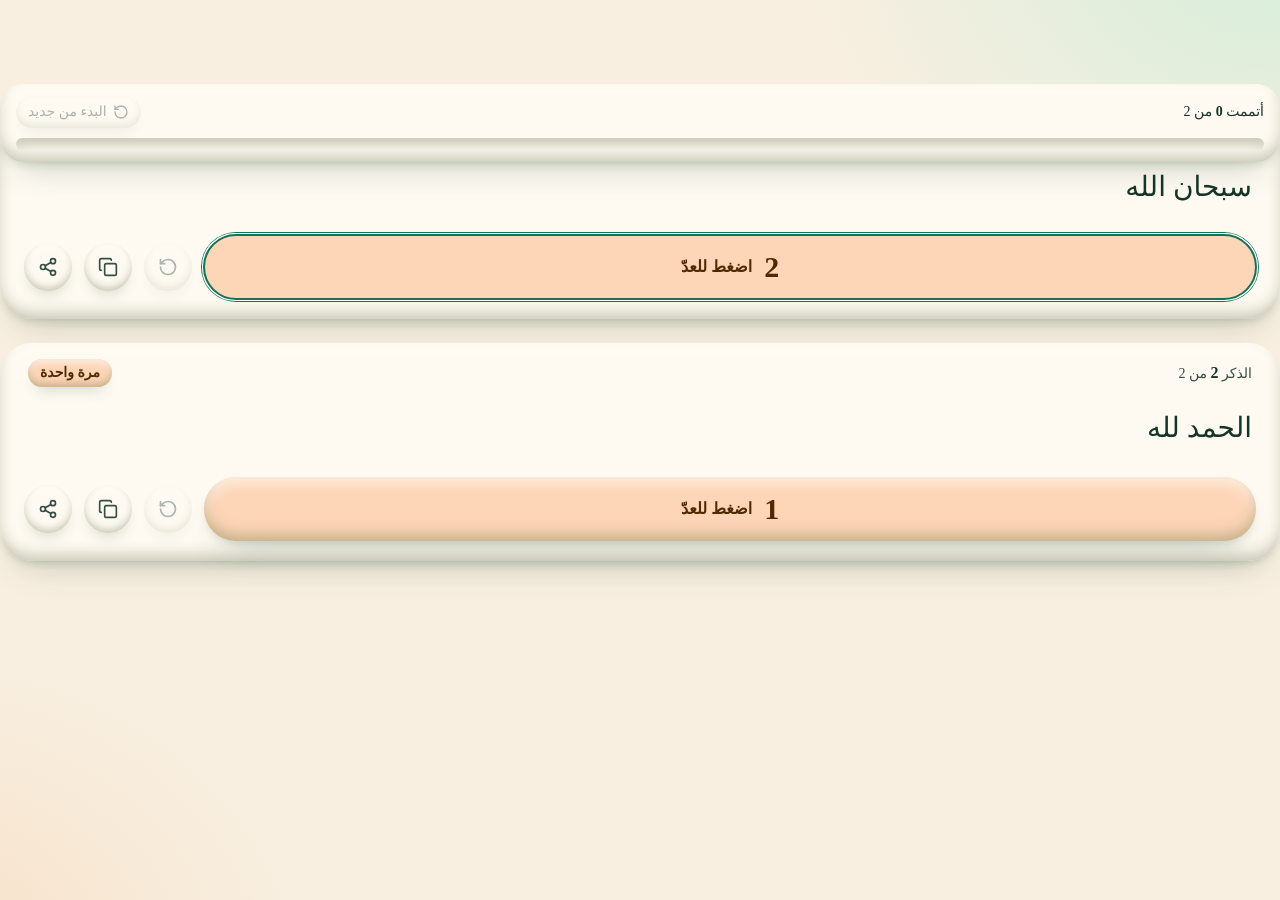
Test: ZekrList reading progress › enables reset-all only after a zekr is completed and leaves the announcement as it was
Click the button "2 اضغط للعدّ": (730,267) 204,235 -> 1256,299
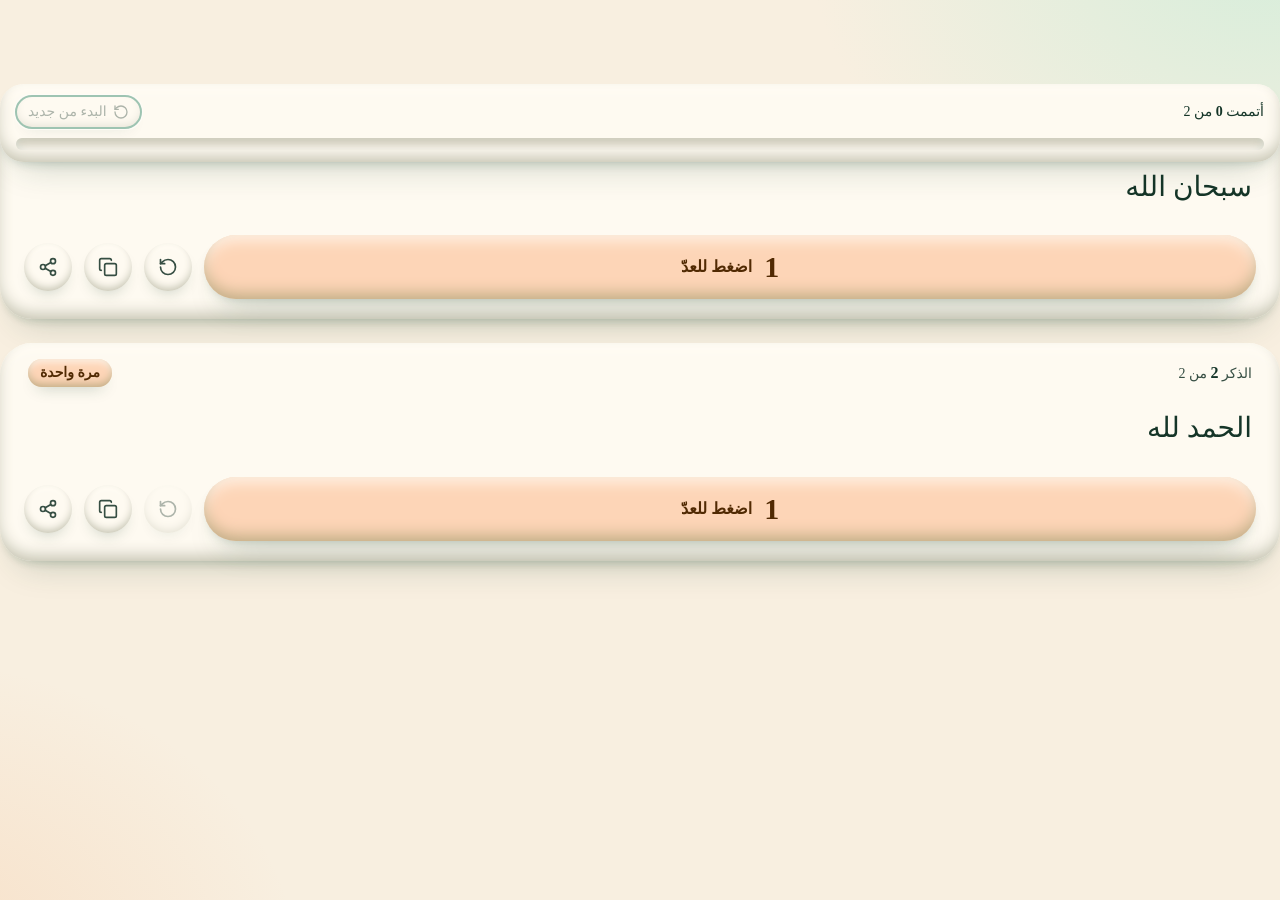
Click the button "البدء من جديد": (78,112) 16,96 -> 141,128
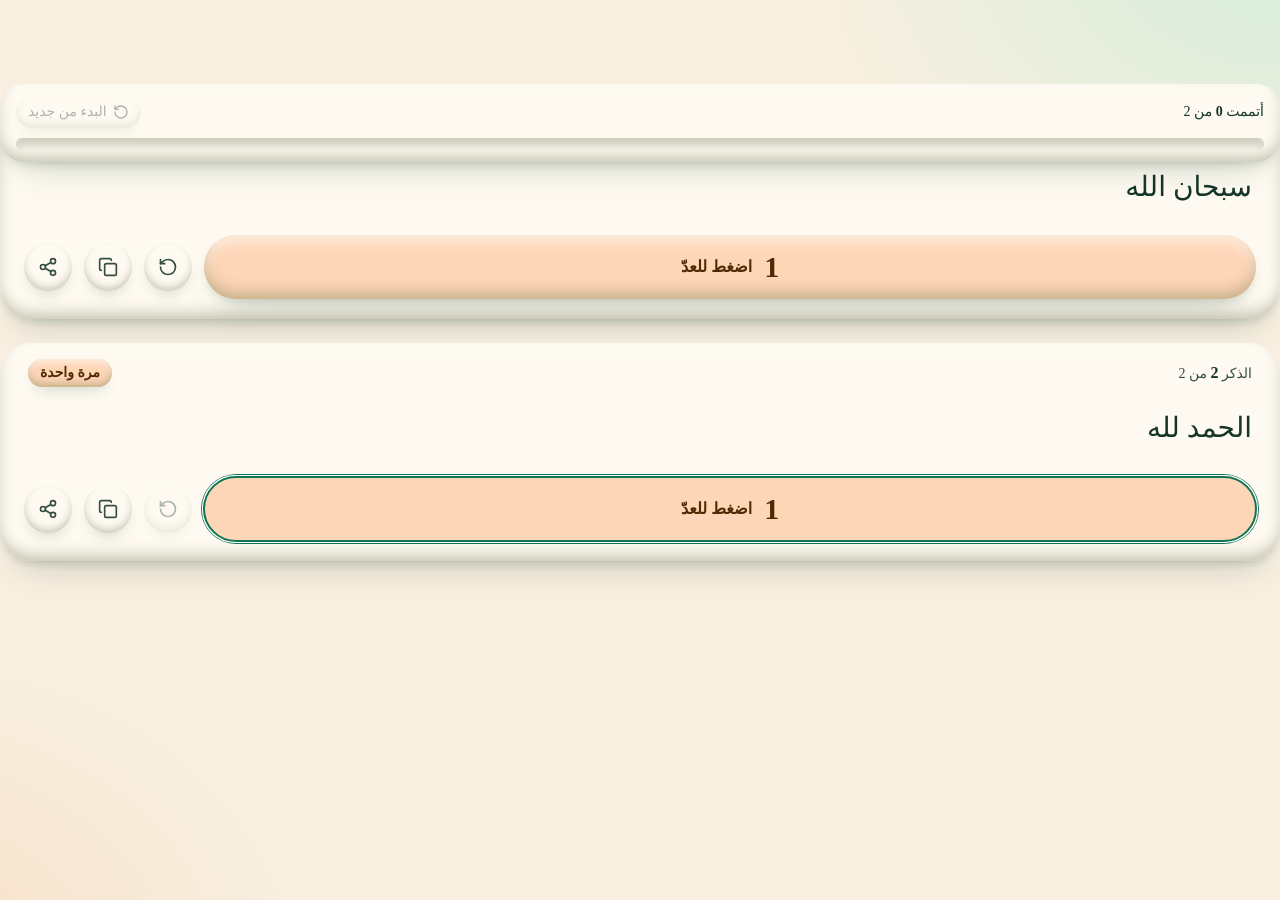
Expected: the button "1 اضغط للعدّ" below "سبحان الله" has attribute aria-label="اضغط للعد، المتبقي 1", 204,235 -> 1256,299
Click the button "1 اضغط للعدّ" below "الحمد لله": (730,509) 204,477 -> 1256,541
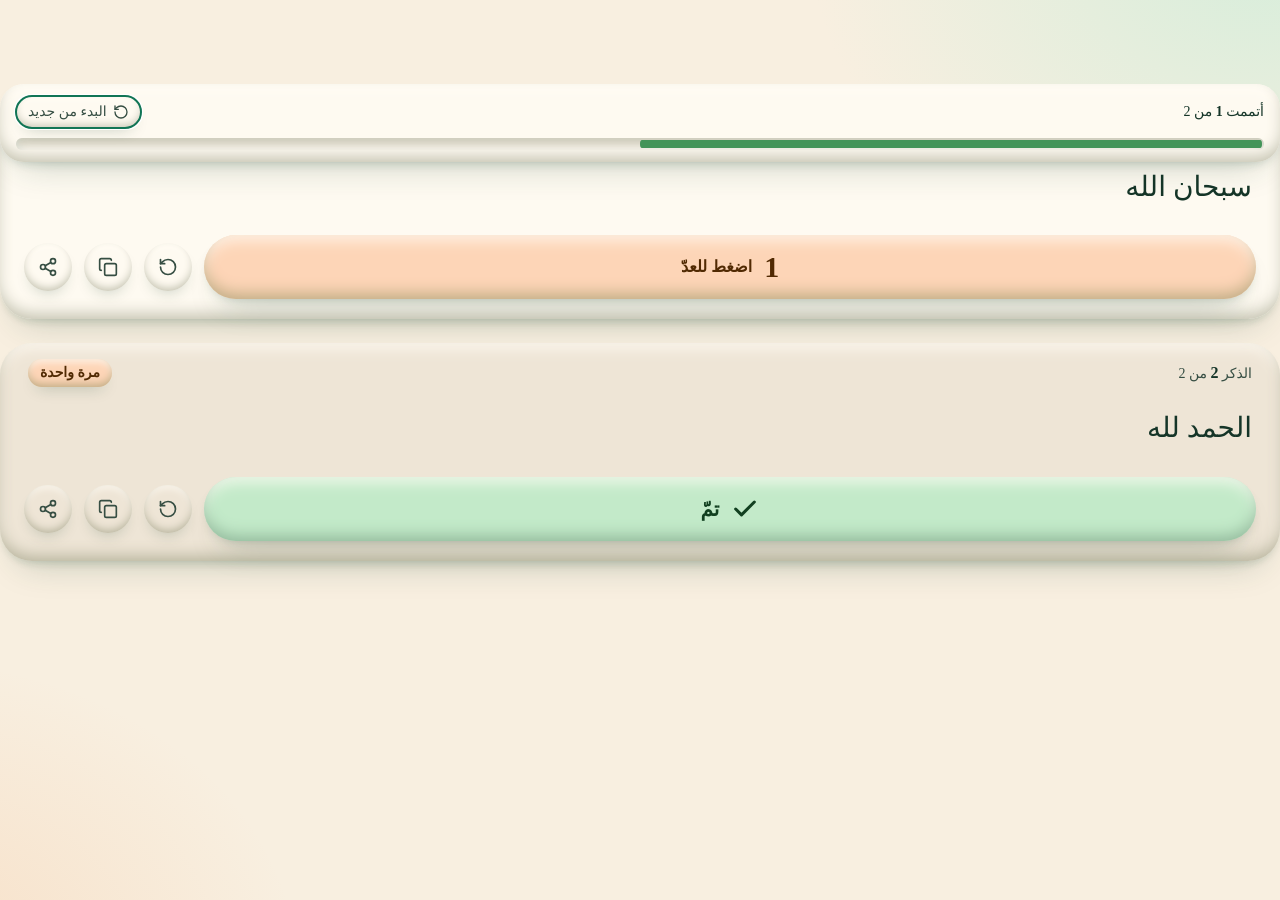
Expected: the button "البدء من جديد" is enabled
Click the button "البدء من جديد": (78,112) 16,96 -> 141,128
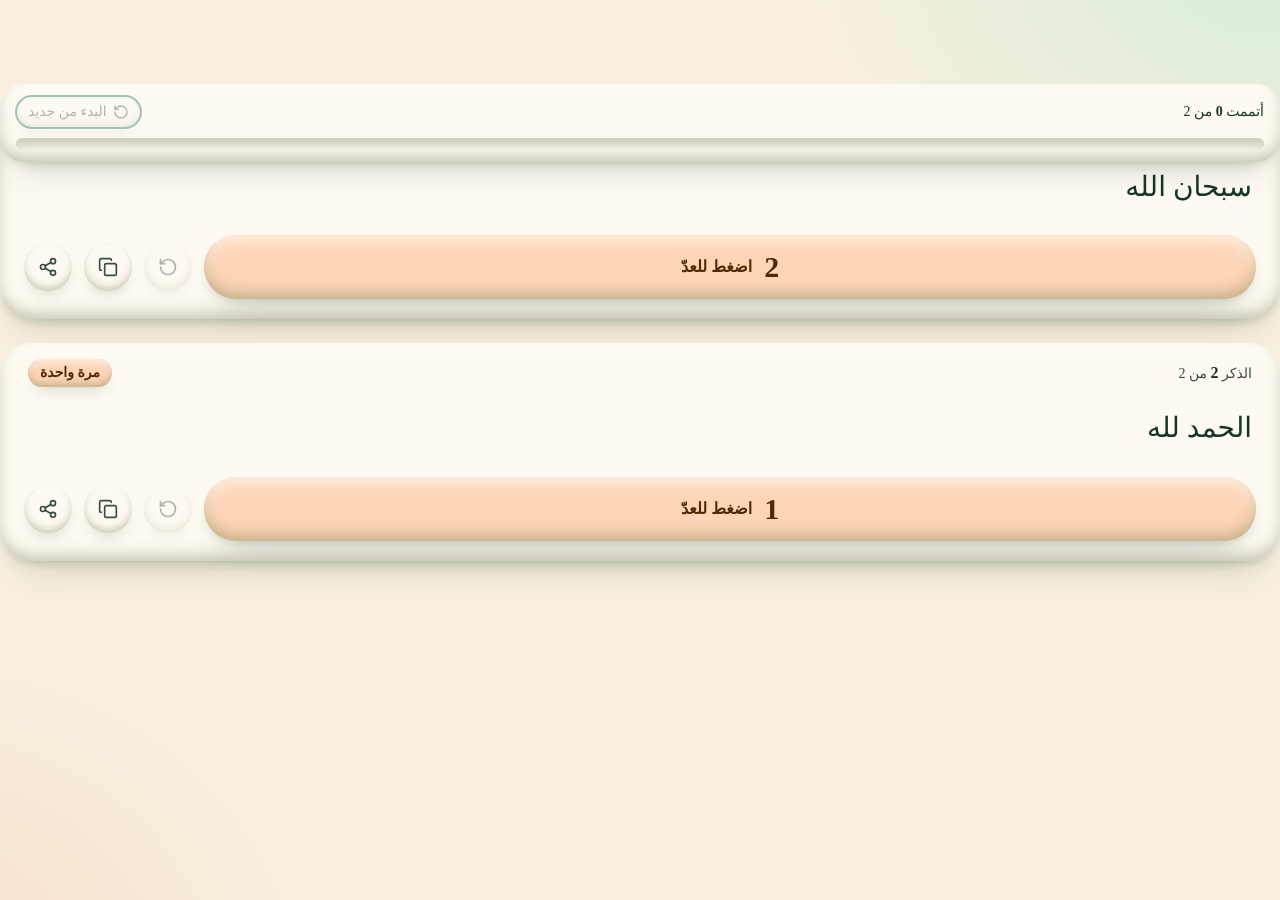
Expected: the element showing "أتممت 0 من 2" is shown, 1184,102 -> 1264,122
